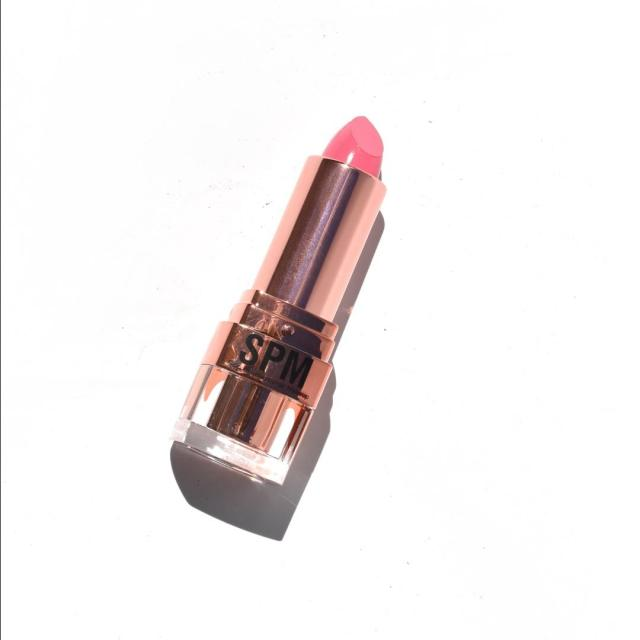lipstick: (121, 111, 414, 509)
